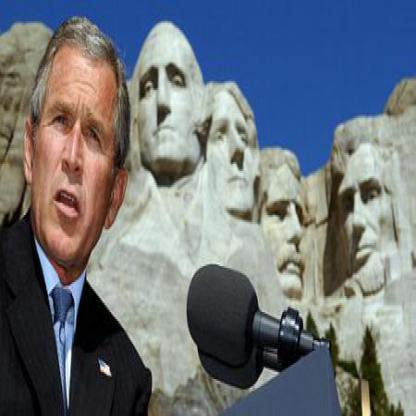face: (35, 24, 120, 267), (137, 23, 201, 191), (337, 126, 396, 297), (202, 82, 263, 230), (258, 152, 317, 305)
